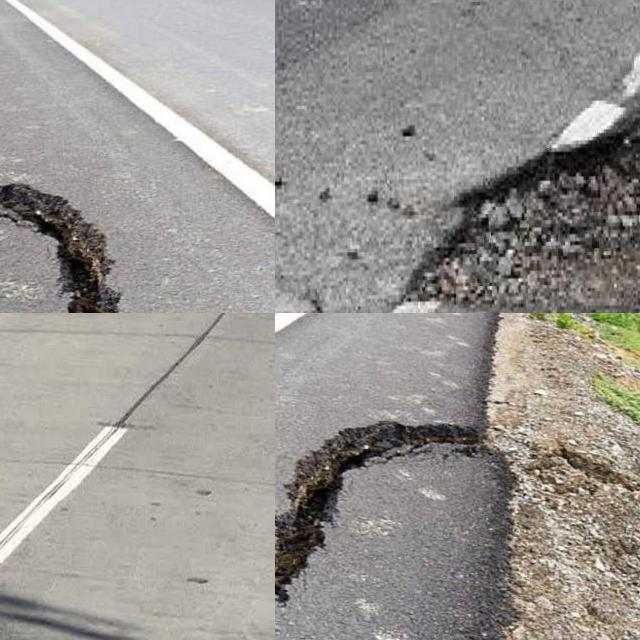Lubang: (410, 109, 640, 313)
Memanjang: (0, 313, 254, 564)
Pinggir: (275, 409, 546, 640)
